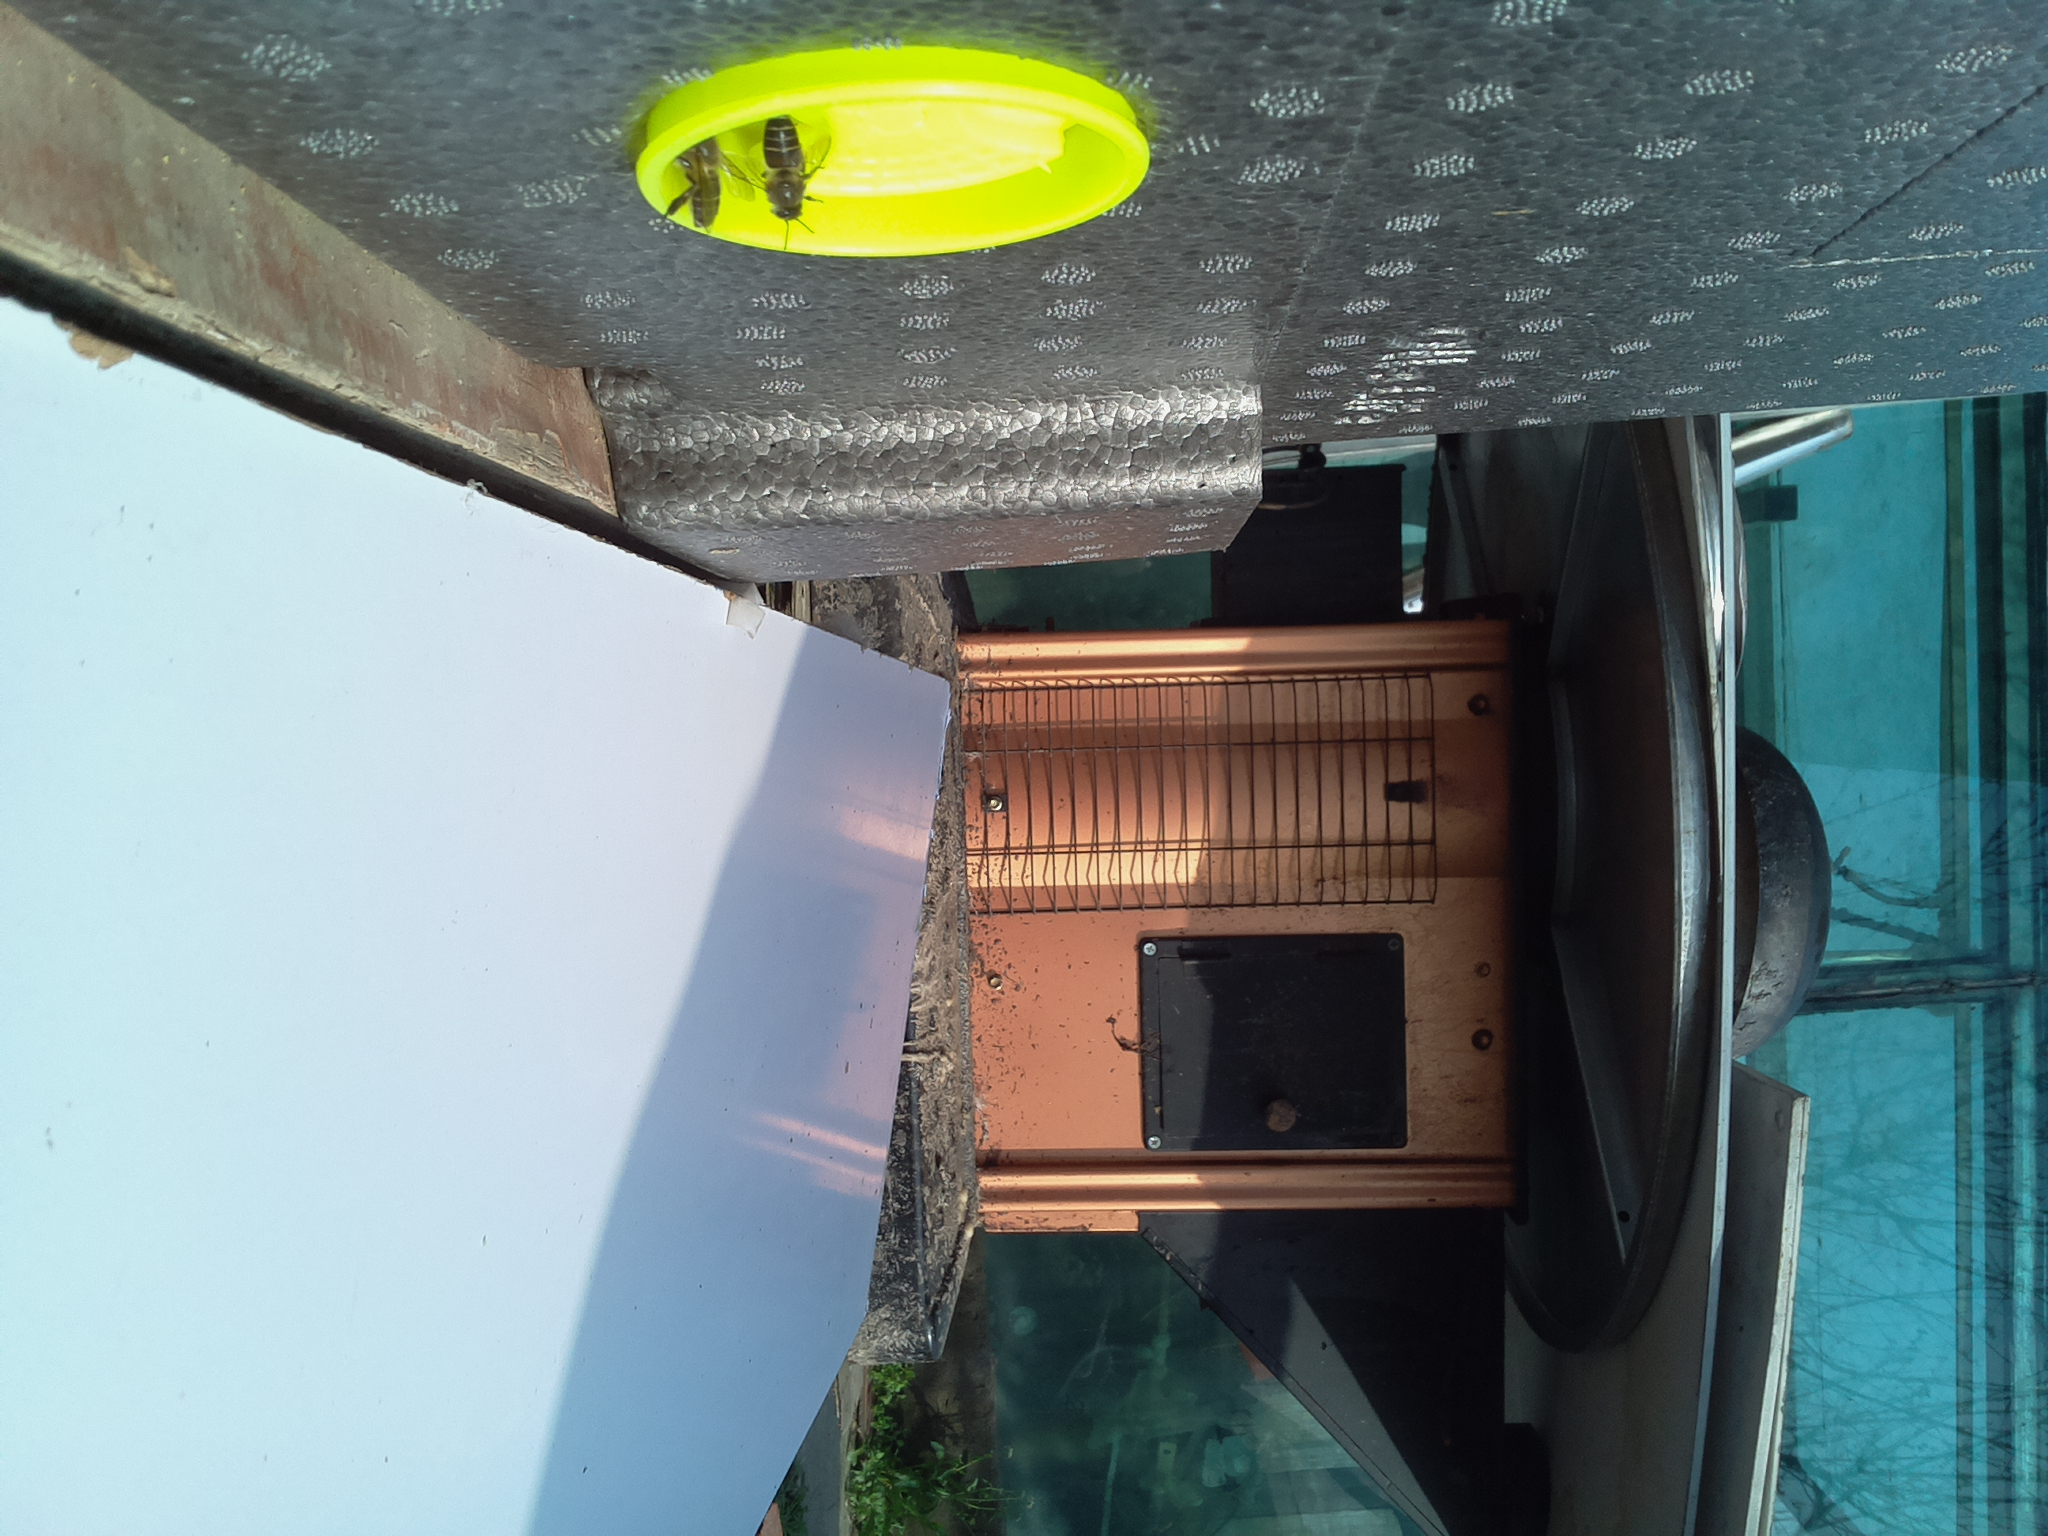bee: (755, 112, 816, 224), (669, 130, 732, 236)
